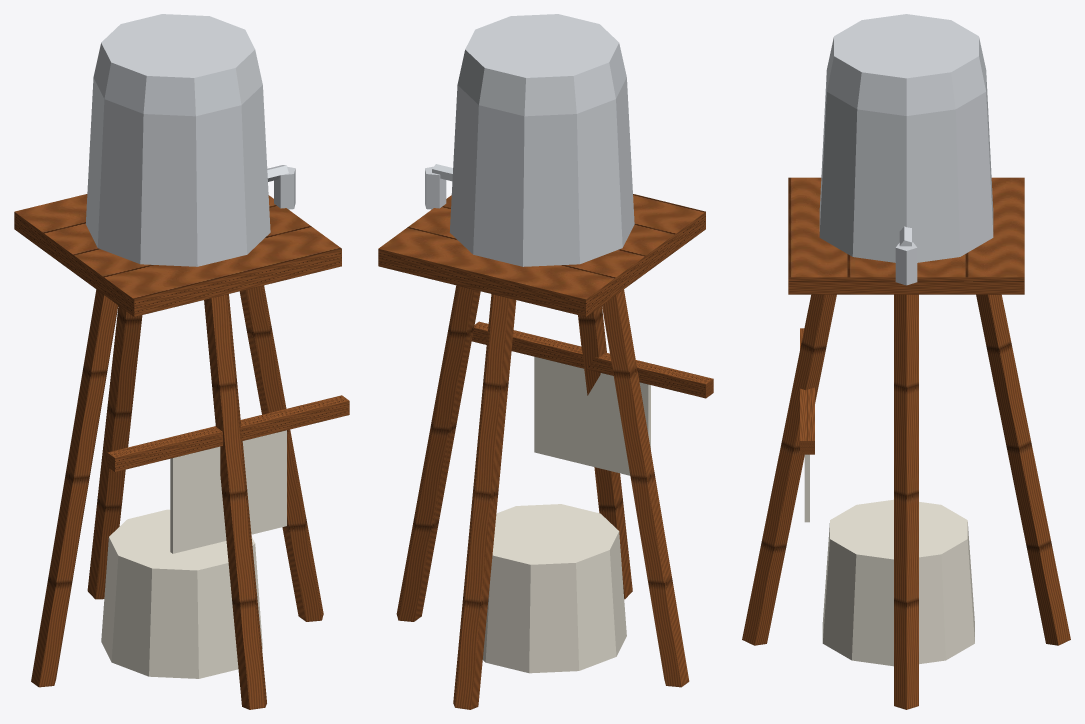
Rendered from safari-camp-and-bush-lodge-water-filter-stand-704f01e2__37686.glb.
3 views of the same model, side by side, from view 1: azimuth 30°, elevation 25°; view 2: azimuth 150°, elevation 25°; view 3: azimuth 270°, elevation 25° (orthographic).
Parts seen in each view (by area): view 1: water-filter-stand-timber, water-filter-stand-steel, water-filter-stand-canvas; view 2: water-filter-stand-timber, water-filter-stand-steel, water-filter-stand-canvas; view 3: water-filter-stand-timber, water-filter-stand-steel, water-filter-stand-canvas.
Boxes of the visible parts, box(x1,y1,x2,y2) form: water-filter-stand-timber: box(14, 194, 349, 709); water-filter-stand-steel: box(86, 14, 295, 266); water-filter-stand-canvas: box(101, 430, 286, 678); water-filter-stand-timber: box(378, 194, 713, 709); water-filter-stand-steel: box(425, 14, 634, 266); water-filter-stand-canvas: box(482, 356, 650, 673); water-filter-stand-timber: box(742, 177, 1070, 709); water-filter-stand-steel: box(819, 14, 993, 285); water-filter-stand-canvas: box(804, 454, 974, 666).
Size of the model in its own units: 0.8614 by 1.73 by 0.8634.
3 materials, 1 textured.
